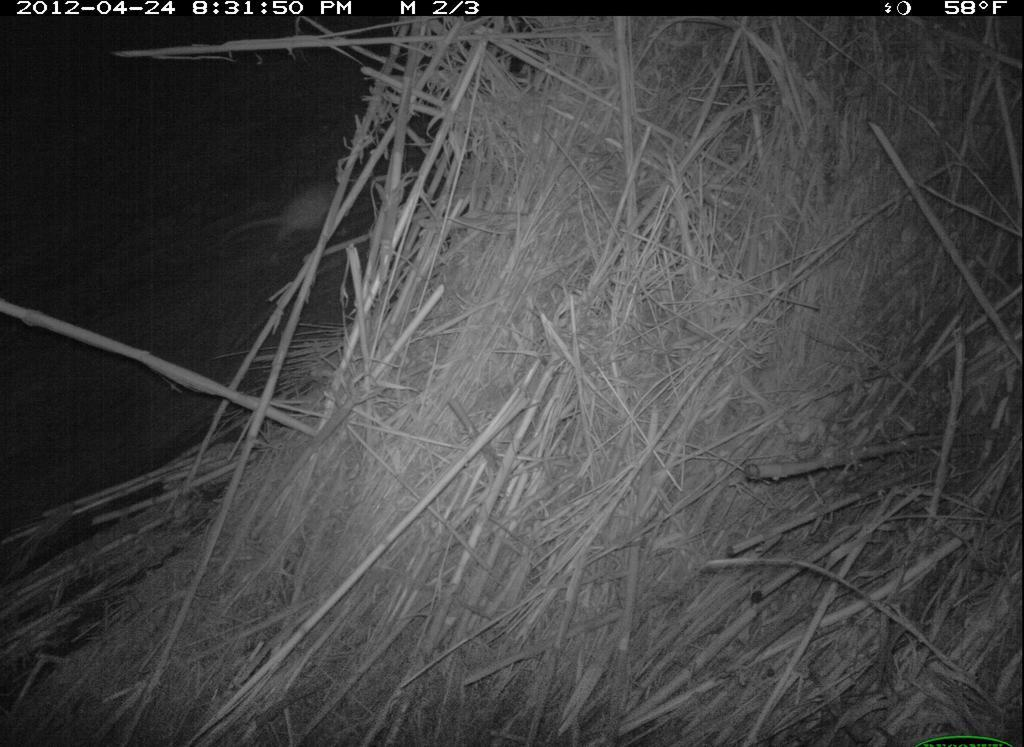opossum: (210, 166, 405, 257)
